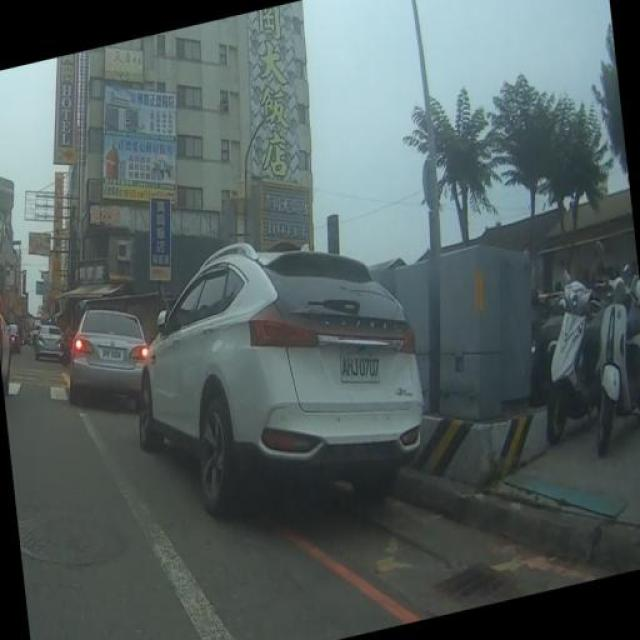Legalparking: (533, 271, 640, 464)
illegalparking: (114, 228, 446, 540)
